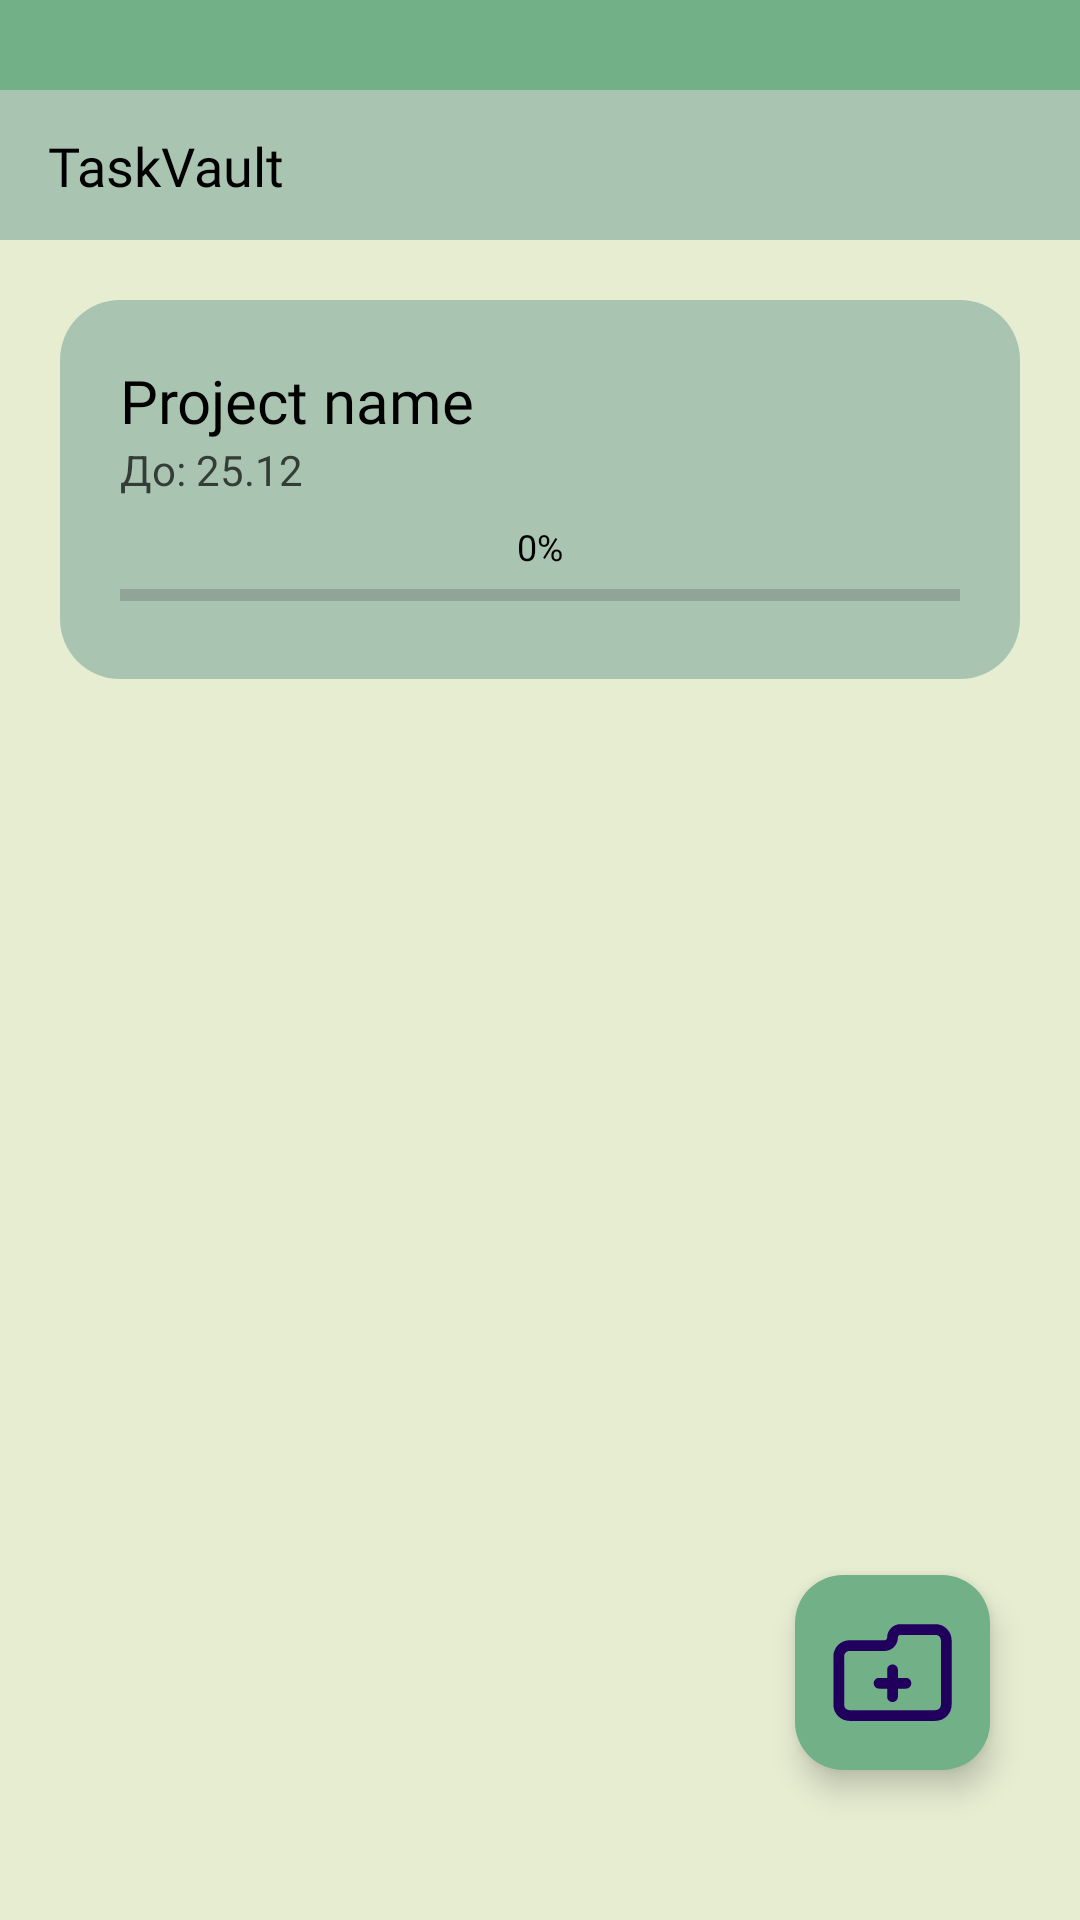

Where to tap for icons on this 1080×1920 app screen, as (x,y):
add: (892,1672)
